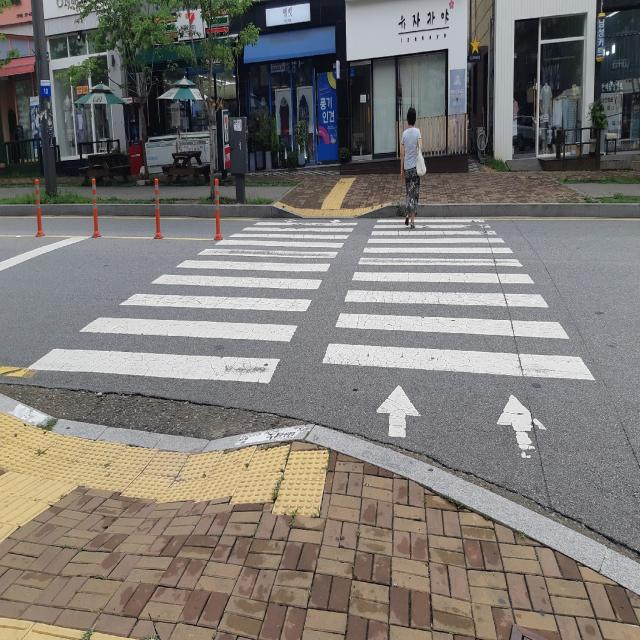횡단보도: (27, 217, 596, 459)
